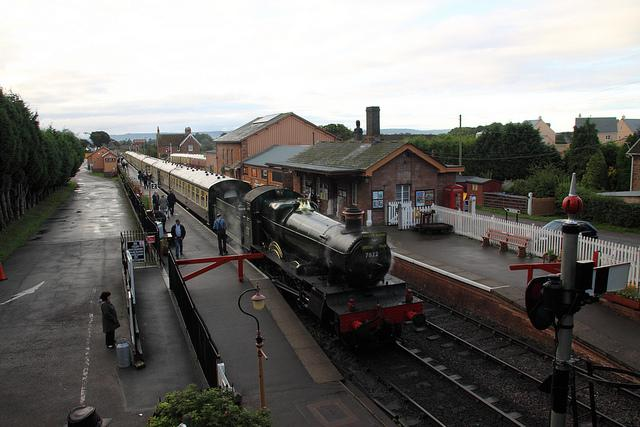Train: (124, 149, 430, 337)
